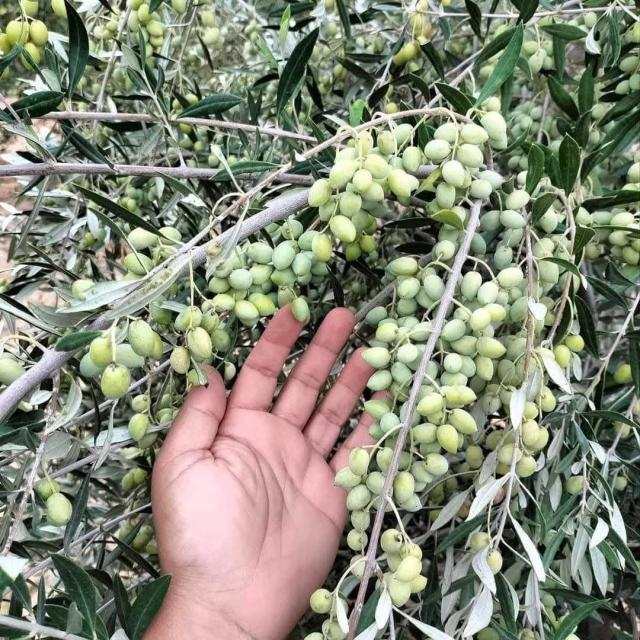Healthy: (127, 319, 155, 357), (100, 364, 130, 399), (47, 492, 72, 526), (329, 215, 356, 244), (187, 327, 212, 358), (449, 408, 477, 435), (480, 111, 506, 140), (397, 555, 422, 583), (436, 424, 460, 453), (393, 471, 414, 503), (457, 143, 483, 168), (308, 178, 330, 207), (273, 241, 295, 270), (347, 484, 371, 510), (460, 123, 488, 145), (461, 271, 482, 300), (476, 338, 505, 359), (349, 447, 370, 476), (442, 161, 465, 187), (362, 347, 390, 368), (312, 233, 332, 262), (309, 589, 333, 613), (247, 242, 273, 264), (423, 274, 444, 301), (435, 181, 455, 209), (425, 453, 449, 476), (367, 369, 392, 391), (424, 139, 450, 160), (170, 346, 190, 373), (477, 281, 499, 305), (228, 268, 252, 290), (233, 300, 259, 320), (443, 319, 466, 341), (397, 277, 420, 299), (352, 169, 372, 194), (505, 189, 530, 209), (500, 210, 526, 229), (497, 267, 523, 286), (340, 193, 361, 216), (402, 146, 421, 171), (554, 344, 571, 369), (292, 297, 309, 322), (443, 353, 463, 373), (567, 334, 584, 352)
